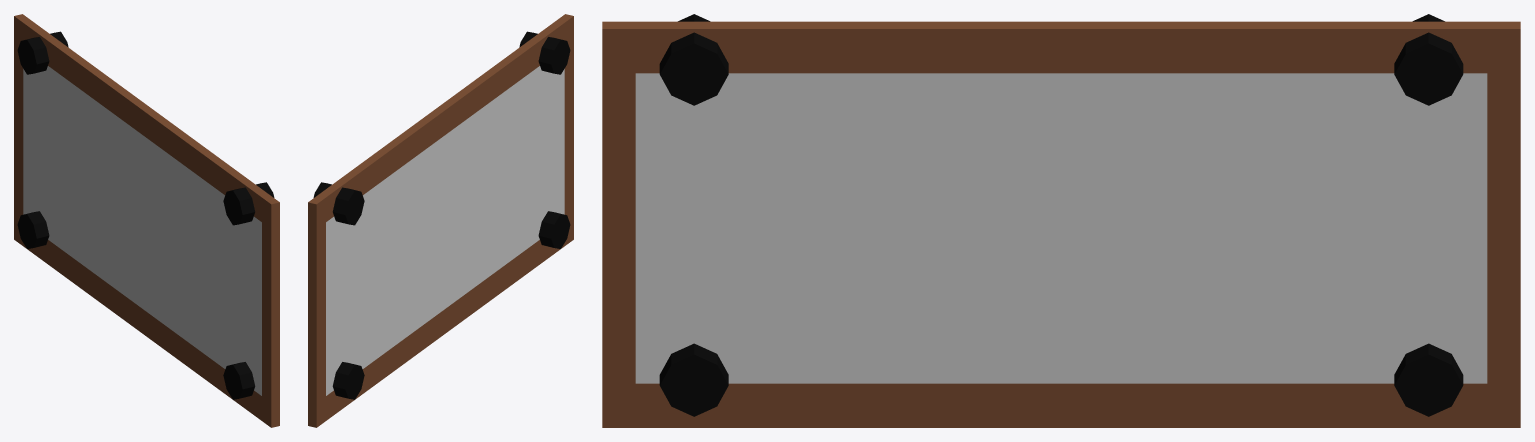
The model's file is Sign.fbx.
3 renders of one model, left to right at view 1: azimuth 30°, elevation 25°; view 2: azimuth 150°, elevation 25°; view 3: azimuth 270°, elevation 25°, orthographic. The views are drawn at different scales.
Visible parts, largest first — view 1: Cube; view 2: Cube; view 3: Cube.
Part boxes in pixels (x1,y1,x2,y2): Cube: [14, 14, 279, 427]; Cube: [308, 14, 573, 427]; Cube: [602, 14, 1520, 427].
Bounding box in the file's own units: 15.17 × 95.87 × 200.
